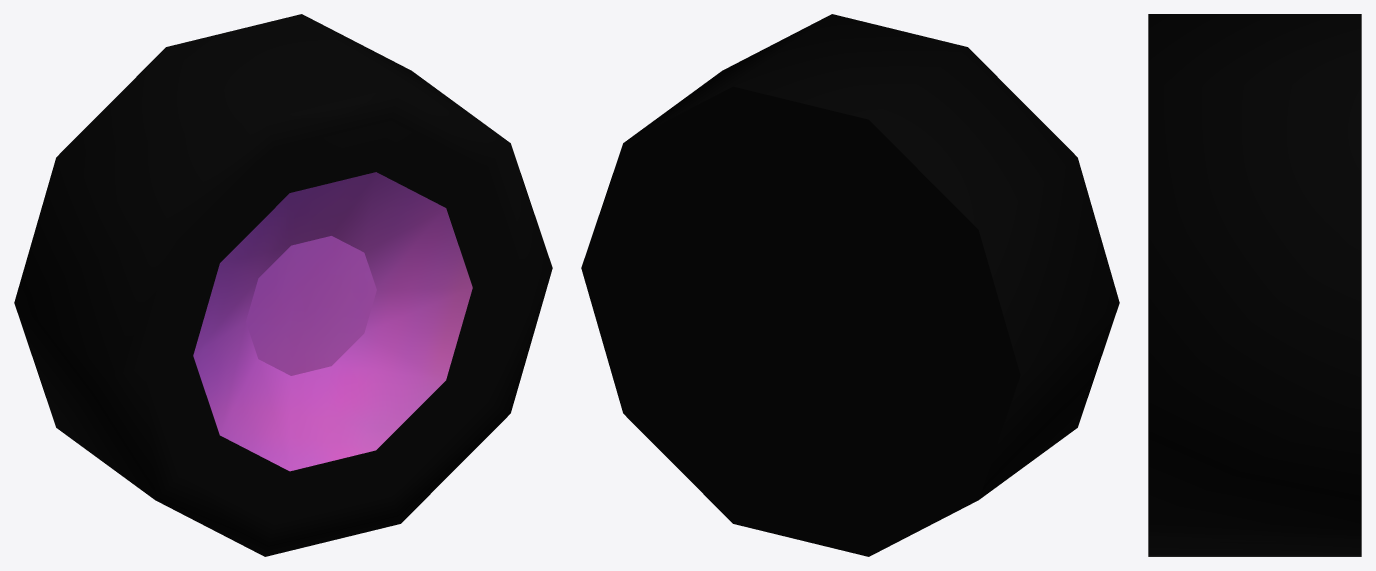
Rendered from Whell_3.fbx.
3 renders of one model, left to right at view 1: azimuth 30°, elevation 25°; view 2: azimuth 150°, elevation 25°; view 3: azimuth 270°, elevation 25°, orthographic. The views are drawn at different scales.
Visible parts, largest first — view 1: Whell_3; view 2: Whell_3; view 3: Whell_3.
Part boxes in pixels (left/top/right/bottom): Whell_3: left=14, top=14, right=552, bottom=556; Whell_3: left=581, top=14, right=1119, bottom=556; Whell_3: left=1148, top=14, right=1361, bottom=556.
Bounding box in the file's own units: 75.37 × 71.68 × 29.43.
Materials: 1 (1 with a texture image).
